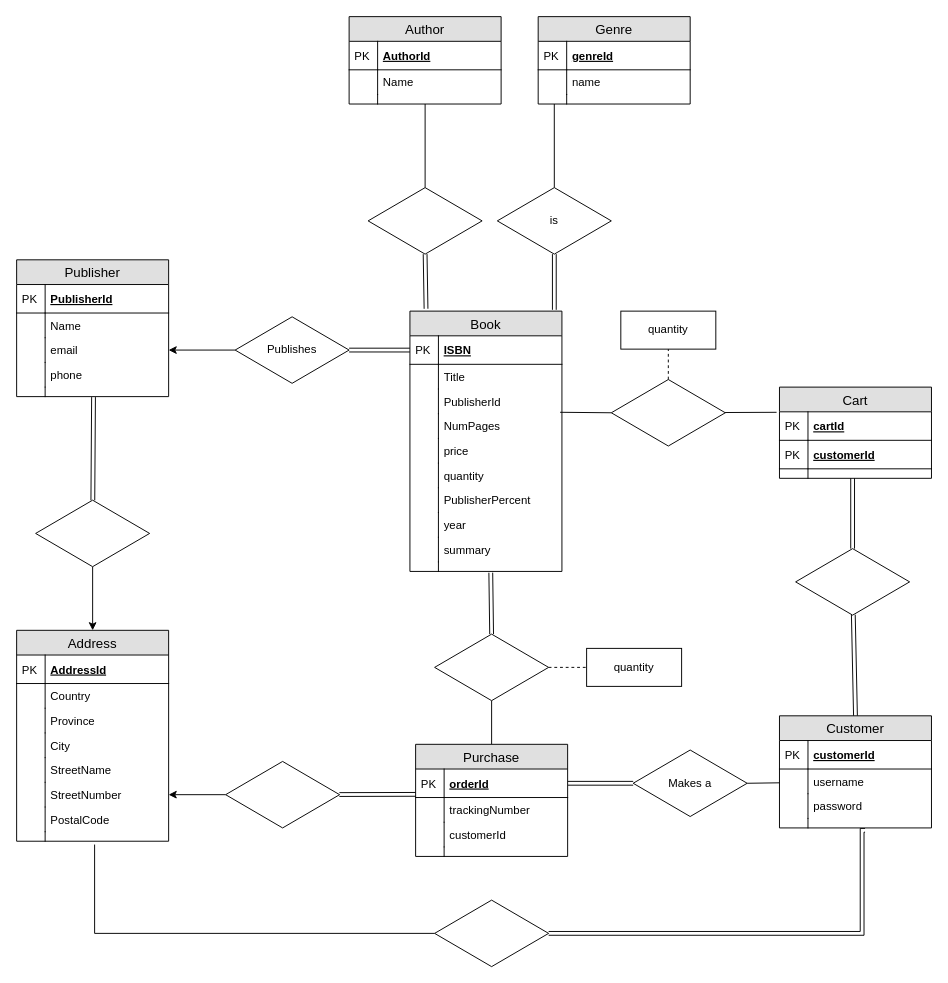
Image size: 948x983. Some labels were removed from this diagram. Each missing label, with the box of its shape:
Billing and shipping: (434, 899, 549, 967)
Has a: (795, 548, 910, 615)
In a: (610, 379, 725, 446)
Includes: (434, 633, 549, 701)
publisher address: (35, 499, 150, 567)
shipping address: (225, 760, 340, 828)
Writes: (367, 187, 482, 254)
